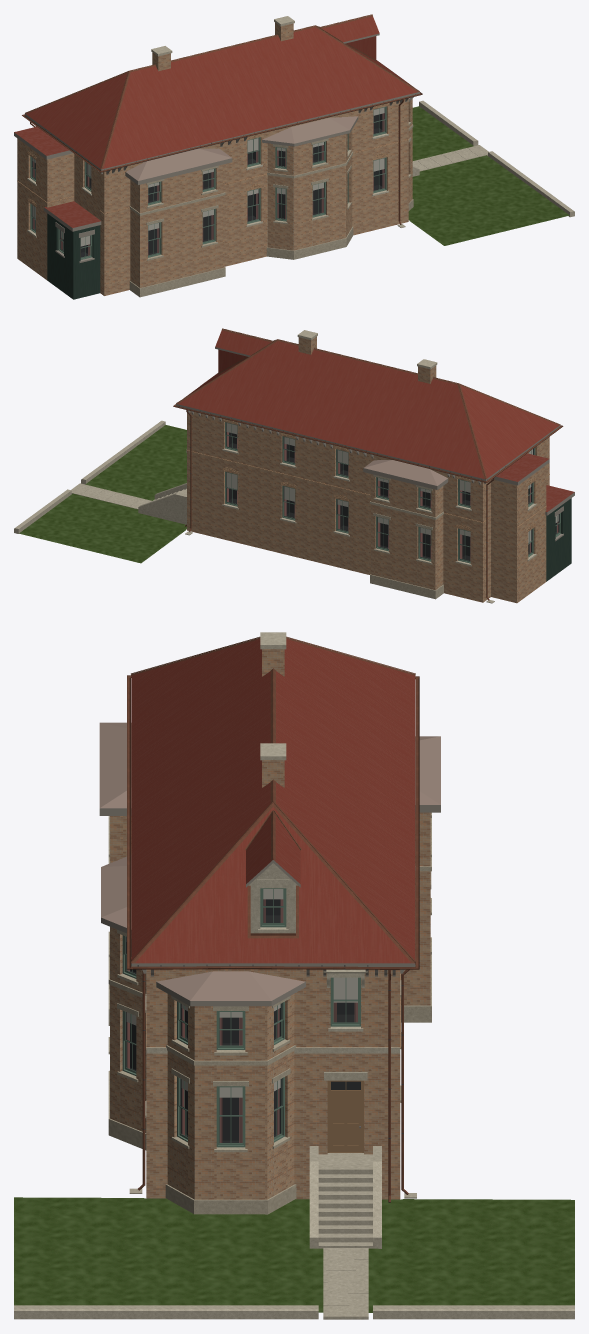
File: house_1726_prairie__as_mapped_1904.glb
3 renders of one model, top to bottom at view 1: azimuth 30°, elevation 25°; view 2: azimuth 150°, elevation 25°; view 3: azimuth 270°, elevation 25°, orthographic. The views are drawn at different scales.
Visible parts, largest first — view 1: house_1726_prairie__as_mapped_1904; view 2: house_1726_prairie__as_mapped_1904; view 3: house_1726_prairie__as_mapped_1904.
Boxes of the visible parts, x1,y1,x2,y2 form: house_1726_prairie__as_mapped_1904: (14, 14, 574, 299); house_1726_prairie__as_mapped_1904: (14, 328, 574, 603); house_1726_prairie__as_mapped_1904: (14, 632, 574, 1319).
Size of the model in its own units: 32.92 by 13.5 by 18.56.
26 materials, 15 textured.
